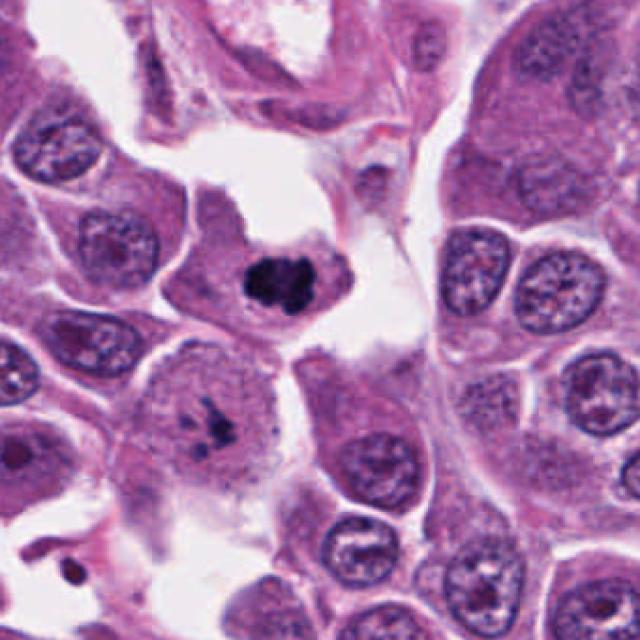fibroblast: (250, 90, 351, 130), (135, 38, 173, 120), (220, 40, 289, 85), (409, 12, 456, 76)
mitotic_figure: (235, 249, 310, 314)
tumor: (34, 298, 156, 386), (2, 88, 107, 185), (439, 530, 531, 640), (512, 241, 608, 336), (544, 344, 640, 437), (68, 199, 160, 286), (330, 431, 428, 512), (432, 219, 510, 318), (510, 140, 599, 214), (315, 512, 402, 585), (512, 424, 597, 494), (510, 0, 574, 81), (452, 361, 518, 434), (569, 28, 614, 121)
unlabeled: (160, 387, 236, 467), (355, 160, 390, 211)
